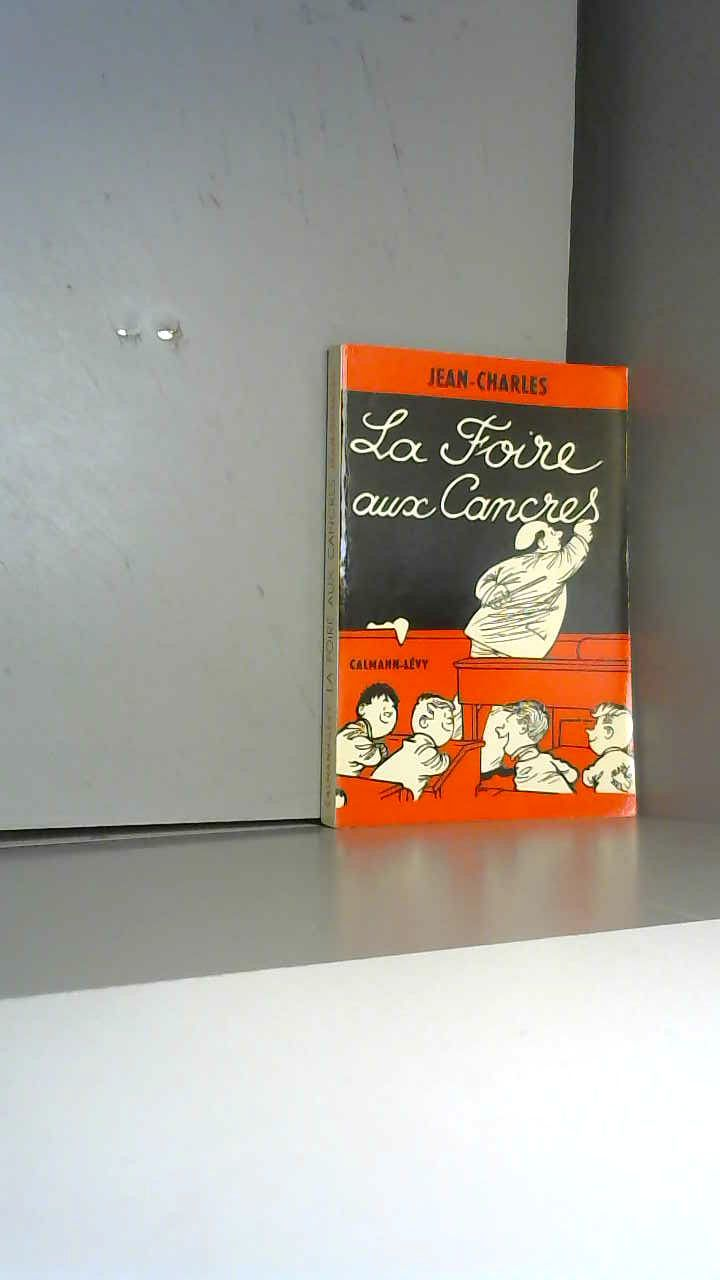book: (310, 300, 719, 936)
